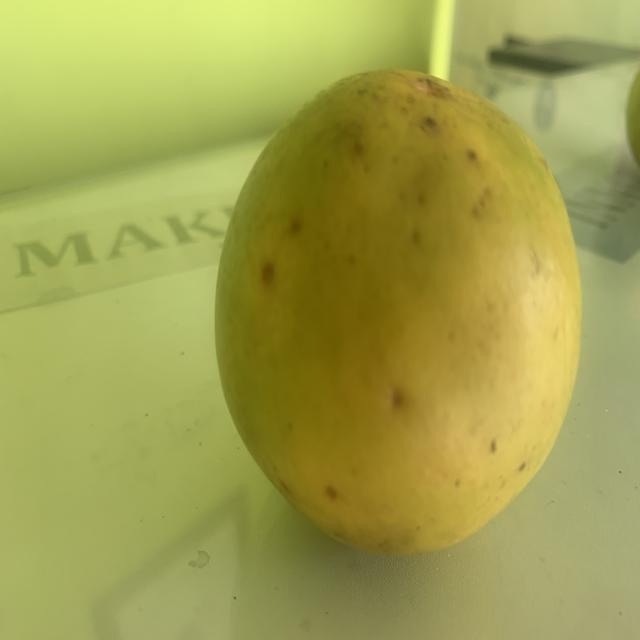agrume: (208, 57, 589, 576)
